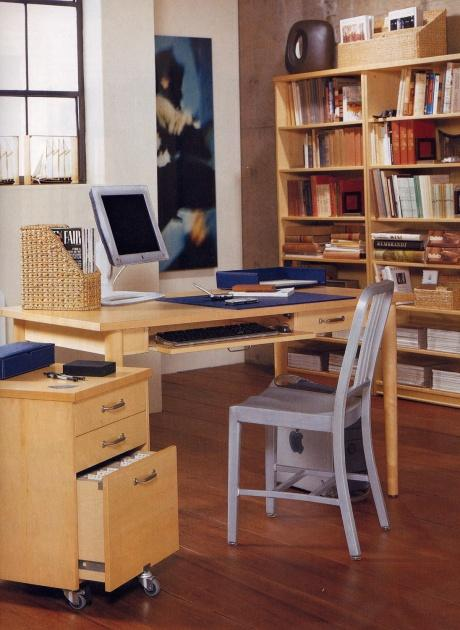AIO PC-Monitor-TV: (87, 182, 170, 267)
Filing Cabinet: (0, 357, 180, 593)
Kursi: (225, 278, 393, 561)
Meja: (0, 278, 416, 363)
Rak: (270, 51, 459, 314)
